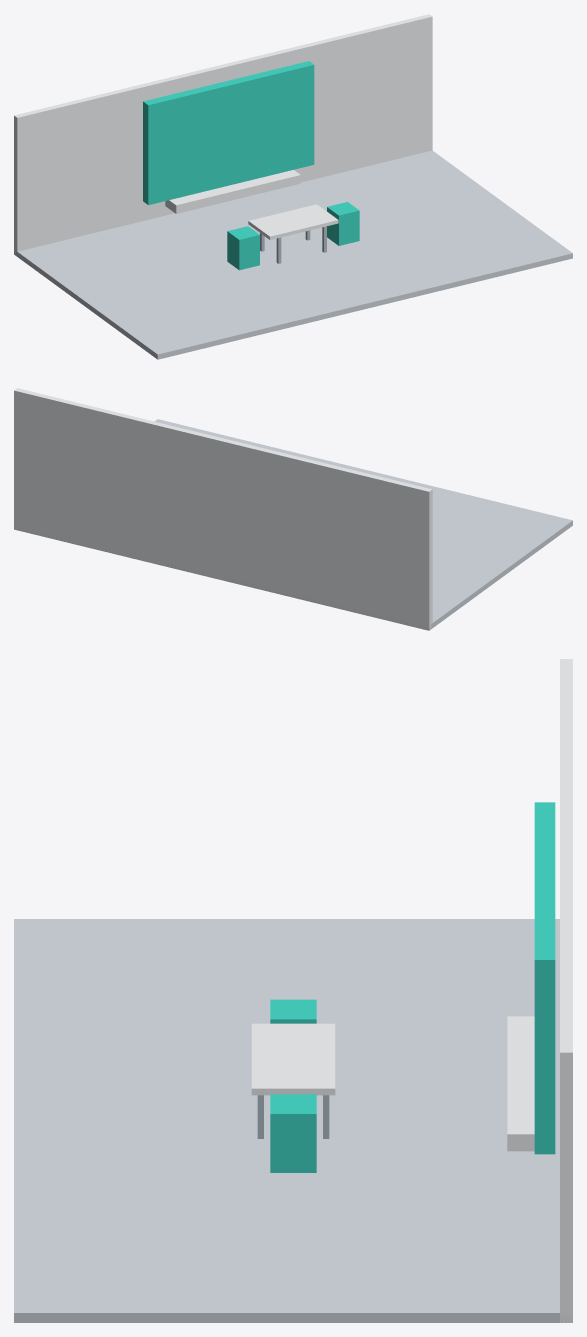
3 renders of one model, top to bottom at view 1: azimuth 30°, elevation 25°; view 2: azimuth 150°, elevation 25°; view 3: azimuth 270°, elevation 25°, orthographic. The views are drawn at different scales.
Parts seen in each view (by area): view 1: Exhibition Booth Concept; view 2: Exhibition Booth Concept; view 3: Exhibition Booth Concept.
Boxes of the visible parts, bbox=[...] form: Exhibition Booth Concept: bbox=[14, 14, 572, 359]; Exhibition Booth Concept: bbox=[14, 388, 572, 630]; Exhibition Booth Concept: bbox=[14, 659, 572, 1322].
Size of the model in its own units: 10 by 3.2 by 6.
